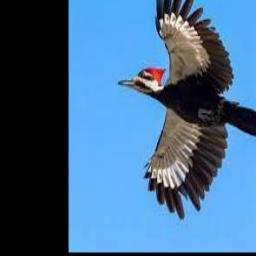Woodpecker: (117, 0, 256, 220)
